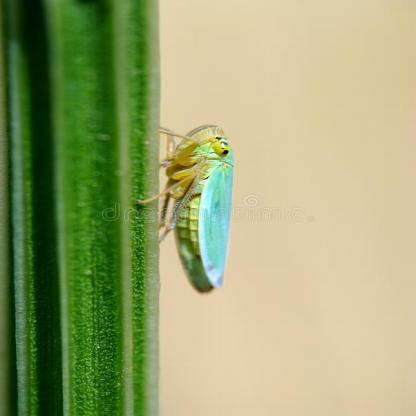Green-Leafhopper: (150, 119, 230, 299)
